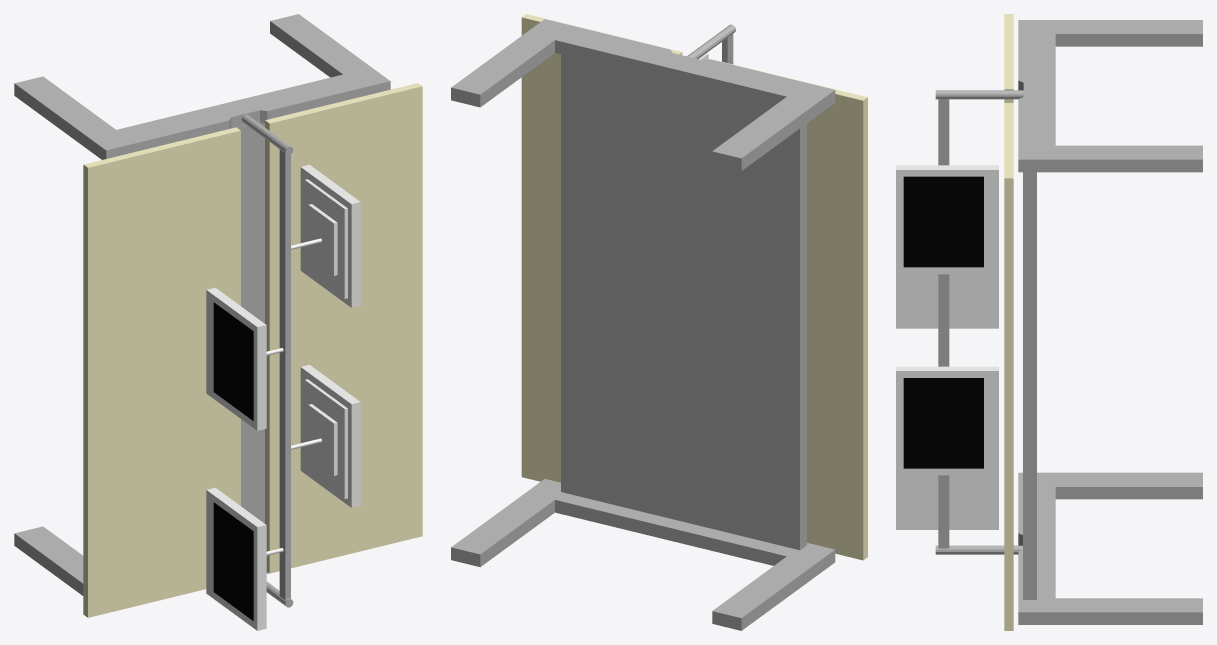
Rendered from nil_link_mesh.dae.
The picture shows the model from 3 angles, left to right: view 1: azimuth 30°, elevation 25°; view 2: azimuth 150°, elevation 25°; view 3: azimuth 270°, elevation 25°; orthographic projection. The views are drawn at different scales.
Visible parts, largest first — view 1: nil_link (×17); view 2: nil_link (×5); view 3: nil_link (×18).
Boxes of the visible parts, <box> form: nil_link (×17): <box>14,14,422,630</box>; nil_link (×5): <box>451,14,867,630</box>; nil_link (×18): <box>896,14,1202,630</box>.
Size of the model in its own units: 1.4 by 1.85 by 1.11.
